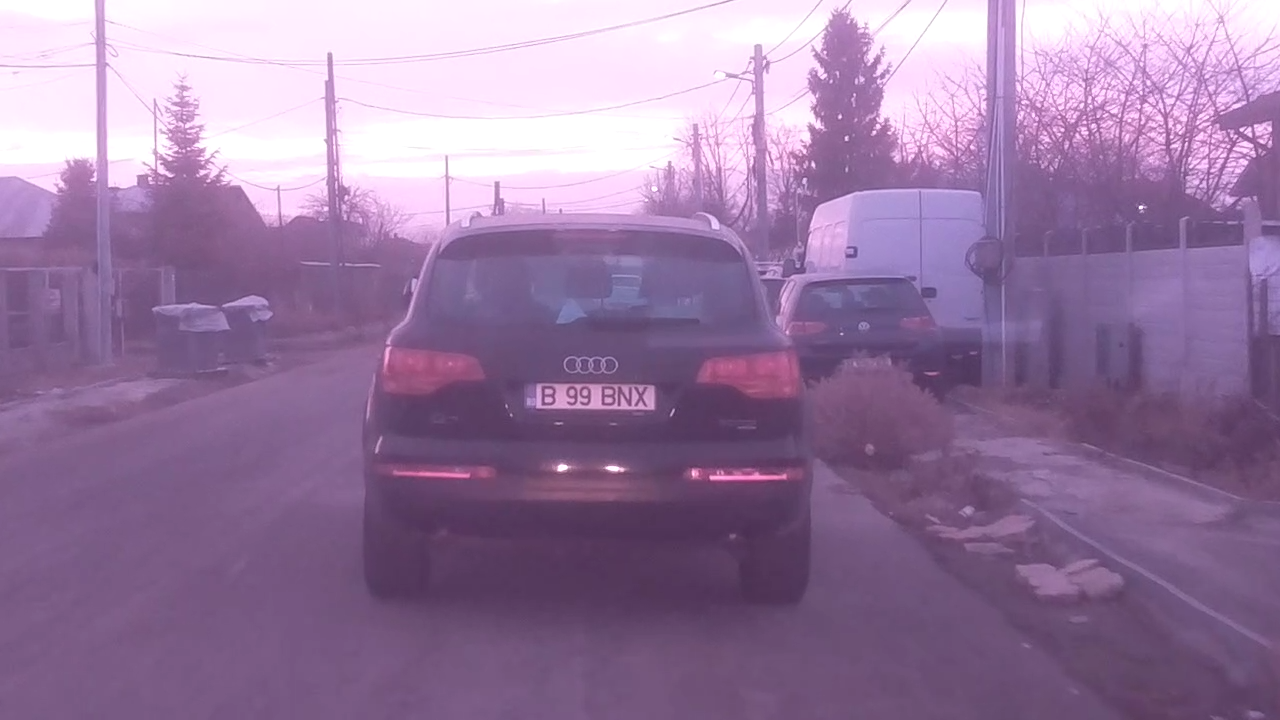license-plate: (515, 375, 664, 416)
